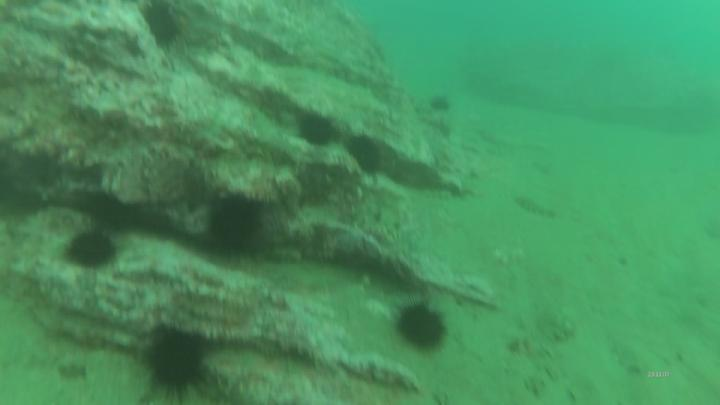echinus: (135, 321, 213, 405), (201, 194, 268, 269), (389, 297, 453, 356), (62, 224, 124, 275), (139, 1, 190, 55), (345, 131, 388, 181), (296, 109, 338, 149)
